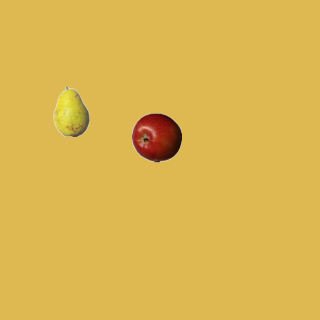Apple Braeburn: (131, 112, 181, 162)
Pear Monster: (46, 86, 96, 136)
